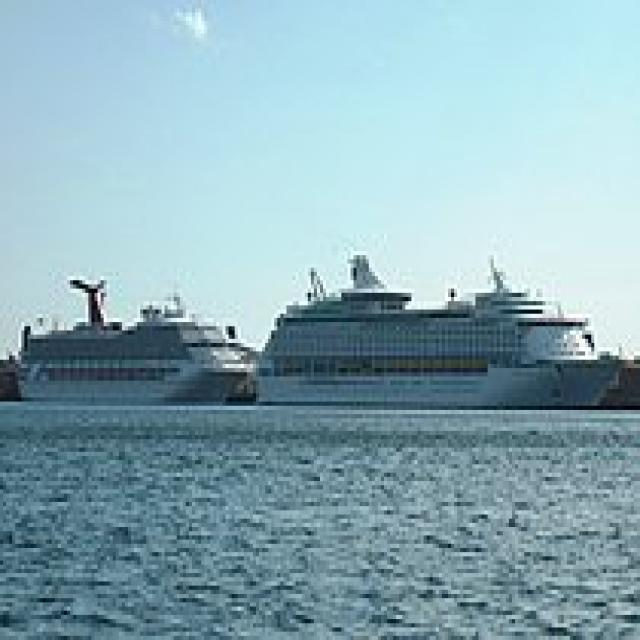Cruise: (250, 247, 625, 406), (12, 268, 253, 406)
